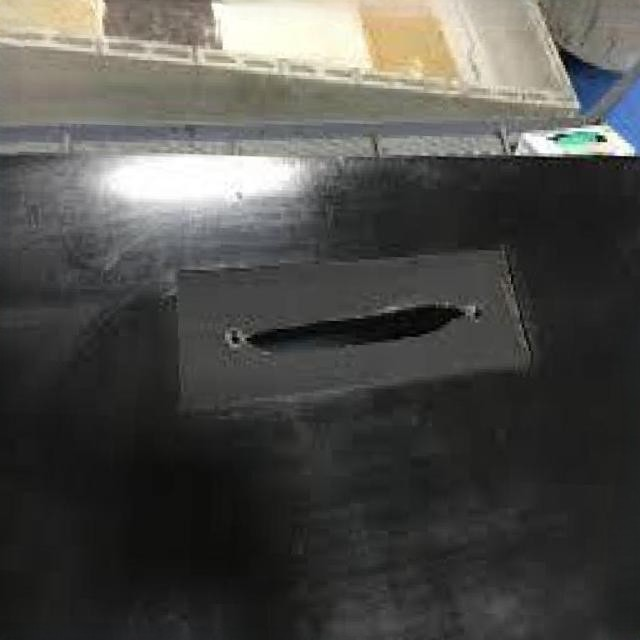Hole: (242, 298, 474, 362)
